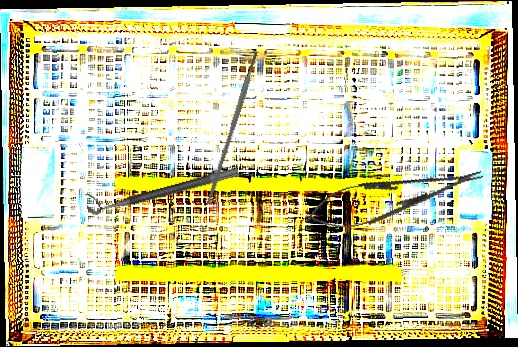Fixation Ring: (83, 154, 240, 217)
Needle Holder: (301, 154, 488, 240)
Scalpel Handle: (204, 50, 261, 207)
